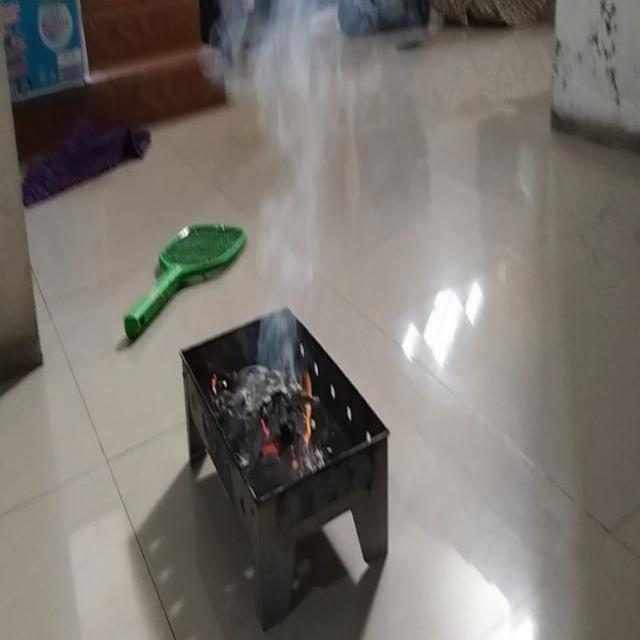fire: (255, 4, 332, 350)
